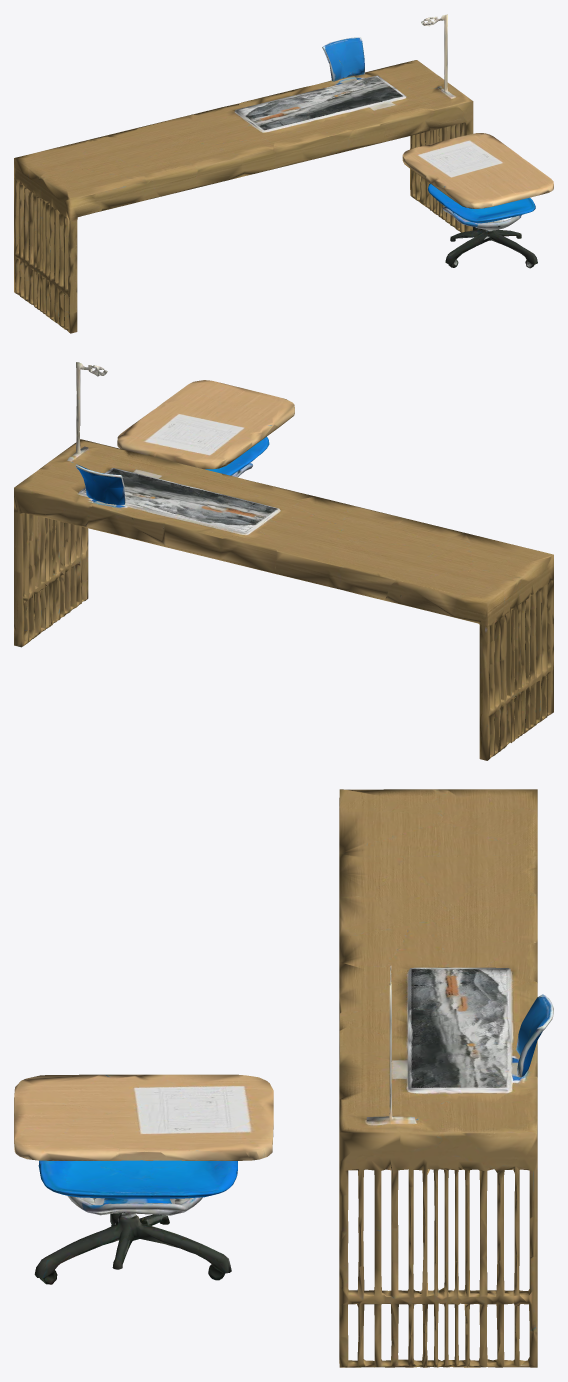
File: Meshy_AI_Cylindrical_Wood_Ring_0628102149_image-to-3d-texture.glb
The picture shows the model from 3 angles, top to bottom: view 1: azimuth 30°, elevation 25°; view 2: azimuth 150°, elevation 25°; view 3: azimuth 270°, elevation 25°; orthographic projection. The views are drawn at different scales.
Parts seen in each view (by area): view 1: Mesh_0.003; view 2: Mesh_0.003; view 3: Mesh_0.003.
Boxes of the visible parts, x1,y1,x2,y2 form: Mesh_0.003: (14, 14, 553, 333); Mesh_0.003: (14, 362, 553, 760); Mesh_0.003: (14, 789, 553, 1367).
Bounding box in the file's own units: 1.47 × 0.7488 × 0.9775.
Materials: 1 (1 with a texture image).
